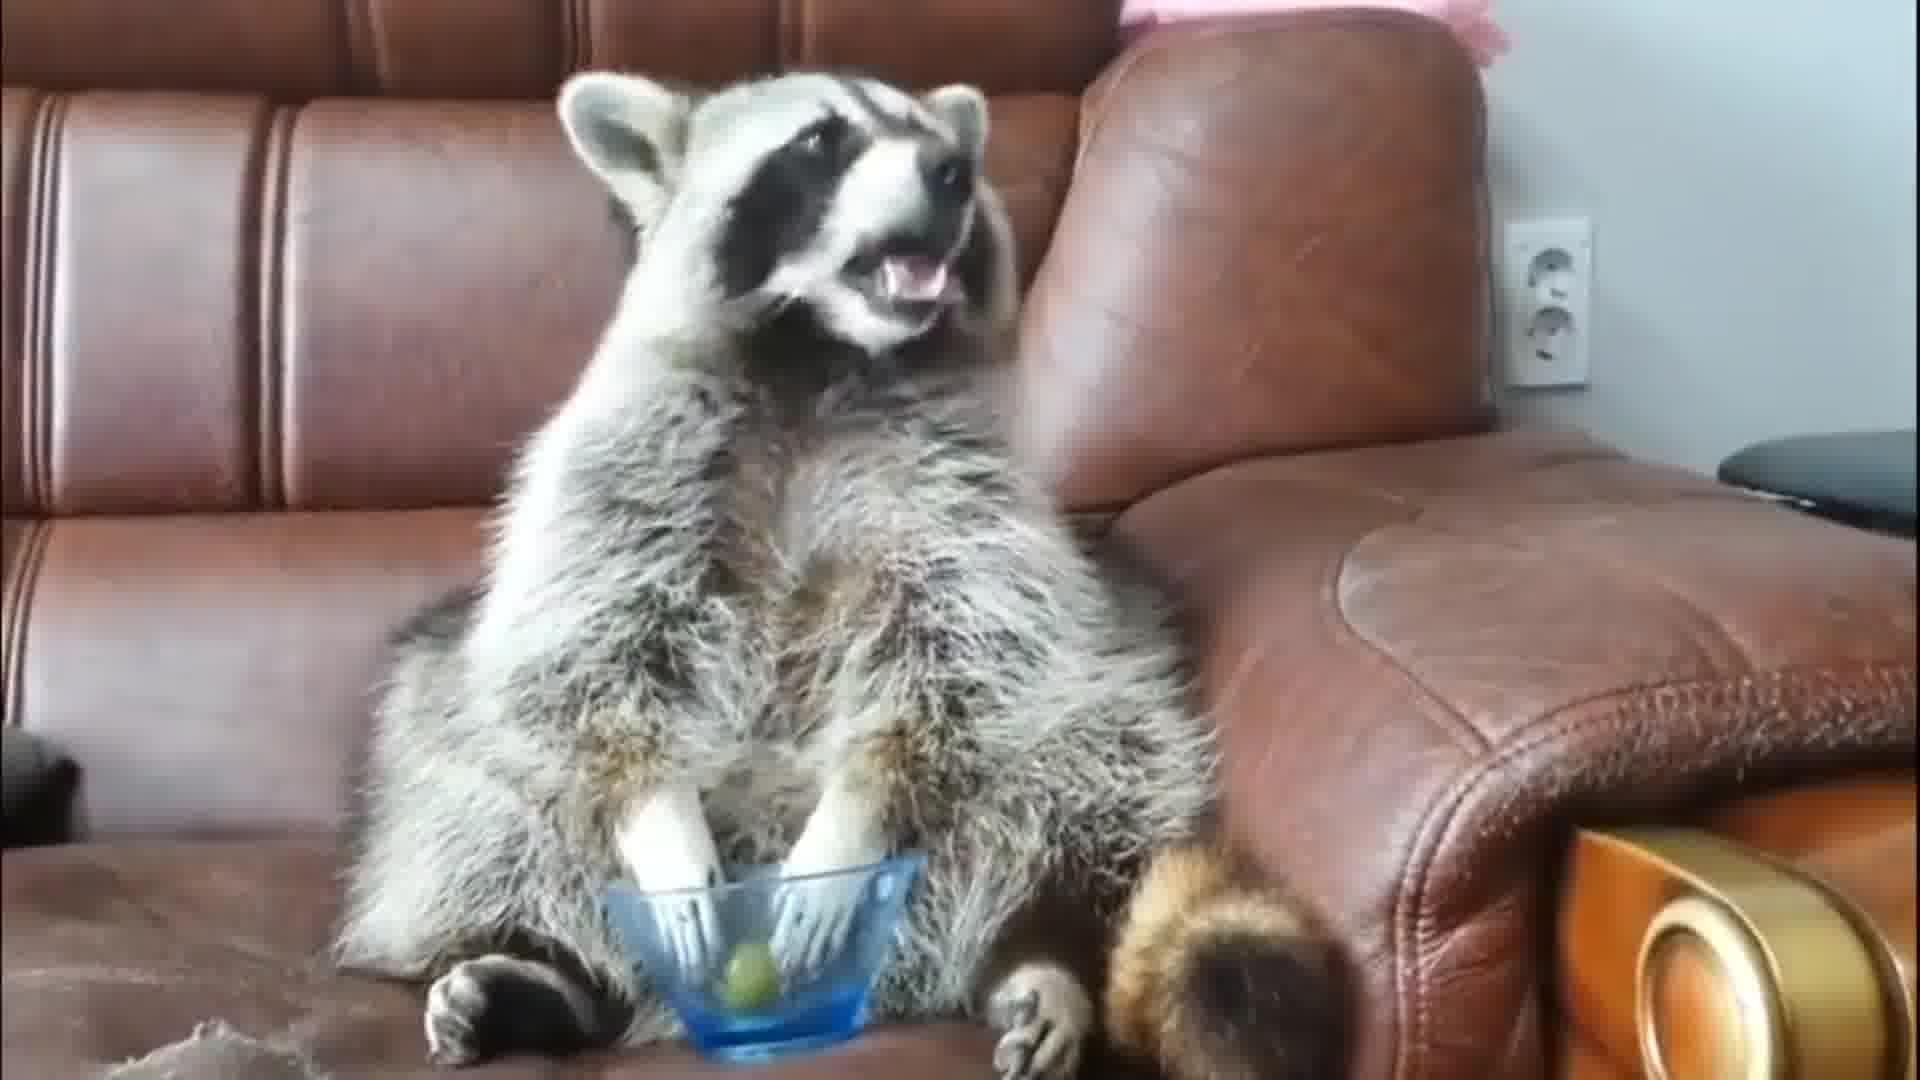raccoon: (326, 61, 1364, 1080)
